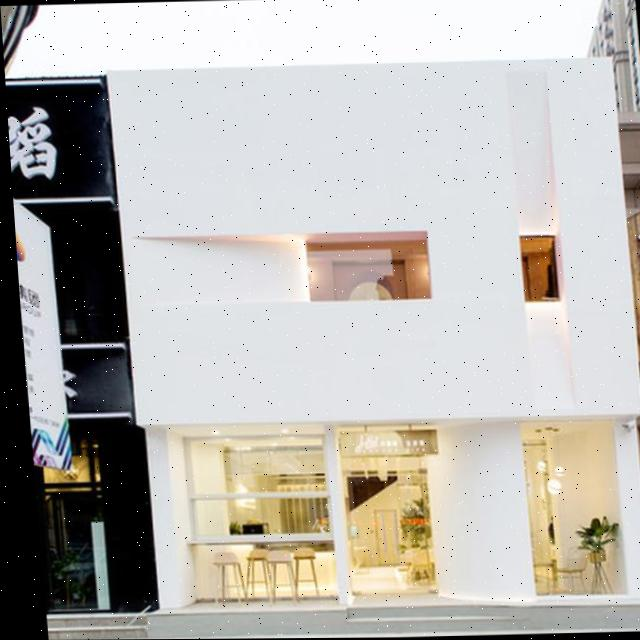building: (104, 57, 640, 611), (5, 68, 156, 615), (581, 0, 640, 113)
